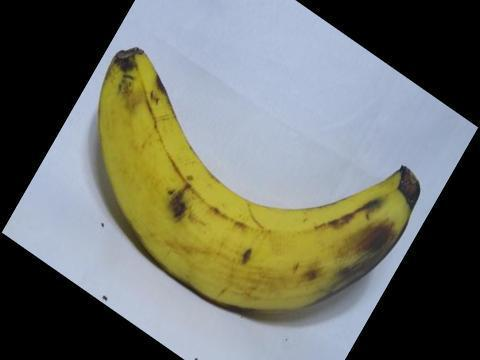ripe: (92, 41, 432, 337)
